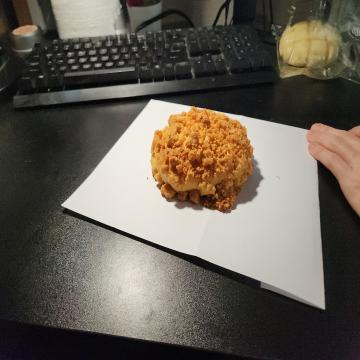soboru_bread: (150, 106, 256, 218)
